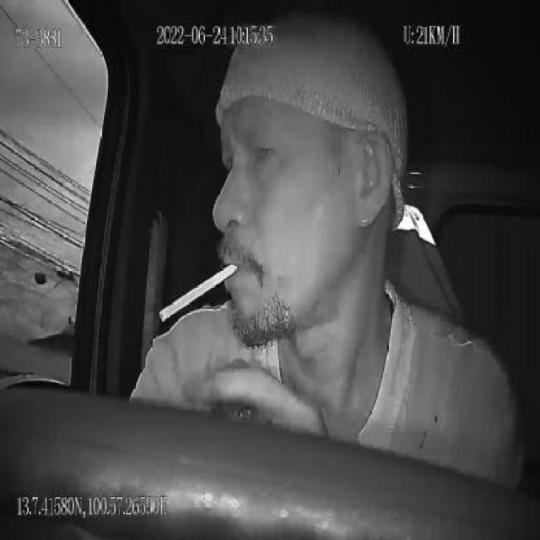smoking: (158, 260, 242, 326)
